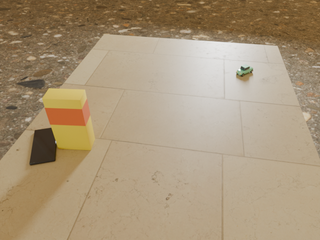box: (42, 89, 95, 150)
phone: (30, 128, 56, 165)
toy_car: (236, 64, 253, 76)
